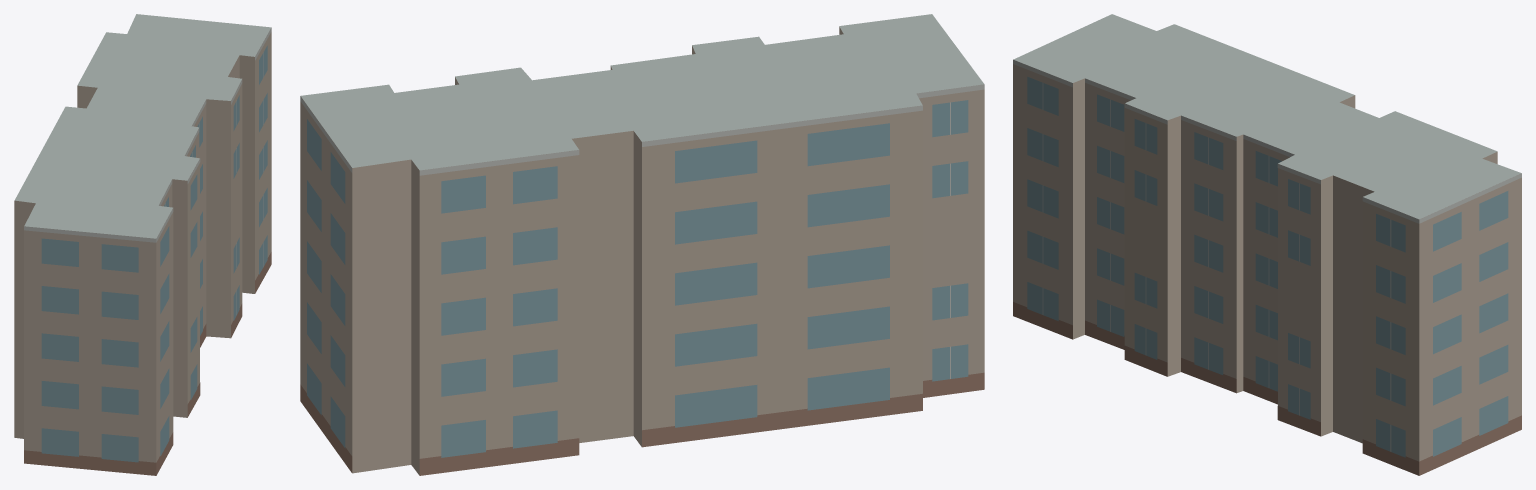
The model's file is survey-upis-32709284.glb.
The picture shows the model from 3 angles, left to right: view 1: azimuth 30°, elevation 25°; view 2: azimuth 150°, elevation 25°; view 3: azimuth 270°, elevation 25°; orthographic projection. The views are drawn at different scales.
Visible parts, largest first — view 1: survey-upis-32709284.tmp; view 2: survey-upis-32709284.tmp; view 3: survey-upis-32709284.tmp.
Part boxes in pixels (x1,y1,x2,y2): survey-upis-32709284.tmp: [14, 14, 271, 475]; survey-upis-32709284.tmp: [300, 14, 984, 475]; survey-upis-32709284.tmp: [1013, 14, 1521, 475].
Bounding box in the file's own units: 24.57 × 14.3 × 25.71.
